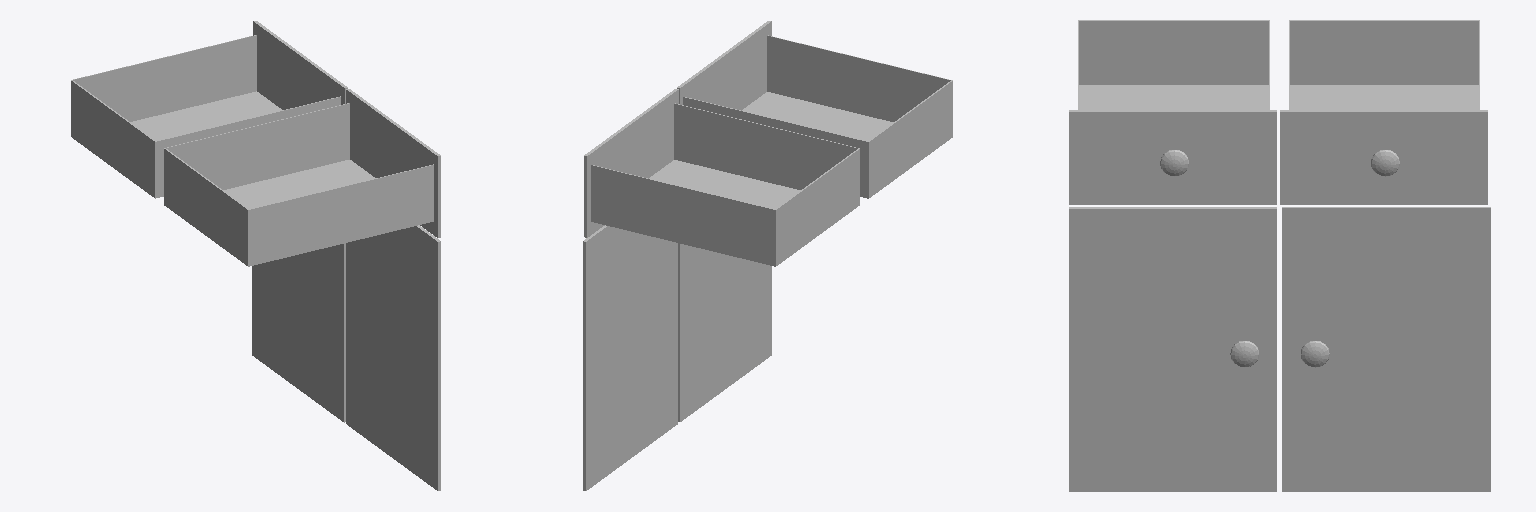
URDF robot description (my_urdf):
<?xml version='1.0' encoding='utf-8'?>
<robot name="my_urdf"><link name="base_link"><visual><origin xyz="0 0 0" rpy="0.0 0.0 0.0" /><material name="white"><color rgba="0.8 0.8 0.8 1" /></material><geometry><mesh filename="../meshes/cabinet.obj" scale="1 1 1" /></geometry></visual><collision><origin xyz="0 0 0" rpy="0.0 0.0 0.0" /><geometry><mesh filename="../meshes/cabinet.obj" scale="1 1 1" /></geometry></collision><inertial><mass value="1" /><inertia ixx="1e-4" ixy="0" ixz="0" iyy="1e-4" iyz="0" izz="1e-4" /></inertial></link><link name="drawer0"><visual><origin xyz="0 0 0" rpy="0 0 0" /><material name="white"><color rgba="0.8 0.8 0.8 1" /></material><geometry><mesh filename="../meshes/parts/drawer.obj" scale="1 1.98 0.98" /></geometry></visual><collision><origin xyz="0 0 0" rpy="0 0 0" /><geometry><mesh filename="../meshes/parts/drawer.obj" scale="1 1.98 0.98" /></geometry></collision><inertial><mass value="0.2" /><inertia ixx="1e-4" ixy="0" ixz="0" iyy="1e-4" iyz="0" izz="1e-4" /></inertial></link><joint name="drawer0_to_base_link" type="prismatic"><axis xyz="1 0 0" /><limit effort="5" lower="0" upper="0.4" velocity="2.283" /><origin xyz="0 0.0 0.75" rpy="0.0 0.0 0.0" /><parent link="base_link" /><child link="drawer0" /></joint><link name="drawer1"><visual><origin xyz="0 0 0" rpy="0 0 0" /><material name="white"><color rgba="0.8 0.8 0.8 1" /></material><geometry><mesh filename="../meshes/parts/drawer.obj" scale="1 1.98 0.98" /></geometry></visual><collision><origin xyz="0 0 0" rpy="0 0 0" /><geometry><mesh filename="../meshes/parts/drawer.obj" scale="1 1.98 0.98" /></geometry></collision><inertial><mass value="0.2" /><inertia ixx="1e-4" ixy="0" ixz="0" iyy="1e-4" iyz="0" izz="1e-4" /></inertial></link><joint name="drawer1_to_base_link" type="prismatic"><axis xyz="1 0 0" /><limit effort="5" lower="0" upper="0.4" velocity="2.283" /><origin xyz="0 0.5 0.75" rpy="0.0 0.0 0.0" /><parent link="base_link" /><child link="drawer1" /></joint><link name="doorR2"><visual><origin xyz="0 0 0" rpy="0 0 0" /><material name="white"><color rgba="0.8 0.8 0.8 1" /></material><geometry><mesh filename="../meshes/parts/doorR.obj" scale="1 1.99 2.99" /></geometry></visual><collision><origin xyz="0 0 0" rpy="0 0 0" /><geometry><mesh filename="../meshes/parts/doorR.obj" scale="1 1.99 2.99" /></geometry></collision><inertial><mass value="0.2" /><inertia ixx="1e-4" ixy="0" ixz="0" iyy="1e-4" iyz="0" izz="1e-4" /></inertial></link><joint name="doorR2_to_base_link" type="revolute"><axis xyz="0 0 1" /><limit effort="5" lower="0" upper="1.57" velocity="2.283" /><origin xyz="0 1.0 0.0" rpy="-0.0 -0.0 -0.0" /><parent link="base_link" /><child link="doorR2" /></joint><link name="doorL3"><visual><origin xyz="0 0 0" rpy="0 0 0" /><material name="white"><color rgba="0.8 0.8 0.8 1" /></material><geometry><mesh filename="../meshes/parts/doorL.obj" scale="1 1.99 2.99" /></geometry></visual><collision><origin xyz="0 0 0" rpy="0 0 0" /><geometry><mesh filename="../meshes/parts/doorL.obj" scale="1 1.99 2.99" /></geometry></collision><inertial><mass value="0.2" /><inertia ixx="1e-4" ixy="0" ixz="0" iyy="1e-4" iyz="0" izz="1e-4" /></inertial></link><joint name="doorL3_to_base_link" type="revolute"><axis xyz="0 0 1" /><limit effort="5" lower="-1.57" upper="0" velocity="2.283" /><origin xyz="0 0.0 0.0" rpy="0.0 0.0 0.0" /><parent link="base_link" /><child link="doorL3" /></joint><link name="knob4"><visual><origin xyz="0 0 0" rpy="0 0 0" /><material name="white"><color rgba="0.8 0.8 0.8 1" /></material><geometry><mesh filename="../meshes/parts/knob.obj" scale="1 1 1" /></geometry></visual><collision><origin xyz="0 0 0" rpy="0 0 0" /><geometry><mesh filename="../meshes/parts/knob.obj" scale="1 1 1" /></geometry></collision><inertial><mass value="0.2" /><inertia ixx="1e-4" ixy="0" ixz="0" iyy="1e-4" iyz="0" izz="1e-4" /></inertial></link><joint name="knob4_to_drawer0" type="fixed"><axis xyz="0 0 1" /><limit effort="5" lower="-1.57" upper="0" velocity="2.283" /><origin xyz="0 0.25 0.125" rpy="1.5707963267948963 0.0 0.0" /><parent link="drawer0" /><child link="knob4" /></joint><link name="knob5"><visual><origin xyz="0 0 0" rpy="0 0 0" /><material name="white"><color rgba="0.8 0.8 0.8 1" /></material><geometry><mesh filename="../meshes/parts/knob.obj" scale="1 1 1" /></geometry></visual><collision><origin xyz="0 0 0" rpy="0 0 0" /><geometry><mesh filename="../meshes/parts/knob.obj" scale="1 1 1" /></geometry></collision><inertial><mass value="0.2" /><inertia ixx="1e-4" ixy="0" ixz="0" iyy="1e-4" iyz="0" izz="1e-4" /></inertial></link><joint name="knob5_to_drawer1" type="fixed"><axis xyz="0 0 1" /><limit effort="5" lower="-1.57" upper="0" velocity="2.283" /><origin xyz="0 0.25 0.125" rpy="1.5707963267948963 0.0 0.0" /><parent link="drawer1" /><child link="knob5" /></joint><link name="knob6"><visual><origin xyz="0 0 0" rpy="0 0 0" /><material name="white"><color rgba="0.8 0.8 0.8 1" /></material><geometry><mesh filename="../meshes/parts/knob.obj" scale="1 1 1" /></geometry></visual><collision><origin xyz="0 0 0" rpy="0 0 0" /><geometry><mesh filename="../meshes/parts/knob.obj" scale="1 1 1" /></geometry></collision><inertial><mass value="0.2" /><inertia ixx="1e-4" ixy="0" ixz="0" iyy="1e-4" iyz="0" izz="1e-4" /></inertial></link><joint name="knob6_to_doorR2" type="fixed"><axis xyz="1 0 0" /><limit effort="5" lower="-1.57" upper="0" velocity="2.283" /><origin xyz="0 -0.4166666666666667 0.375" rpy="0.0 0.0 0.0" /><parent link="doorR2" /><child link="knob6" /></joint><link name="knob7"><visual><origin xyz="0 0 0" rpy="0 0 0" /><material name="white"><color rgba="0.8 0.8 0.8 1" /></material><geometry><mesh filename="../meshes/parts/knob.obj" scale="1 1 1" /></geometry></visual><collision><origin xyz="0 0 0" rpy="0 0 0" /><geometry><mesh filename="../meshes/parts/knob.obj" scale="1 1 1" /></geometry></collision><inertial><mass value="0.2" /><inertia ixx="1e-4" ixy="0" ixz="0" iyy="1e-4" iyz="0" izz="1e-4" /></inertial></link><joint name="knob7_to_doorL3" type="fixed"><axis xyz="1 0 0" /><limit effort="5" lower="-1.57" upper="0" velocity="2.283" /><origin xyz="0 0.4166666666666667 0.375" rpy="0.0 0.0 0.0" /><parent link="doorL3" /><child link="knob7" /></joint></robot>

--- Render facts (derived) ---
3 views of the same robot in one strip: view 1: azimuth 30°, elevation 25°; view 2: azimuth 150°, elevation 25°; view 3: azimuth 270°, elevation 25° (orthographic).
Model my_urdf with 9 links and 8 joints (2 revolute, 2 prismatic, 4 fixed), rooted at base_link, posed every joint at zero.
Links seen in each view (by area): view 1: drawer0, drawer1, doorL3, doorR2; view 2: drawer1, drawer0, doorR2, doorL3; view 3: doorR2, doorL3, drawer0, drawer1, knob4, knob5, knob6, knob7.
Boxes of the visible links, x1,y1,x2,y2 form: drawer0: (164,89,440,266); drawer1: (71,21,347,198); doorL3: (346,225,440,490); doorR2: (252,243,345,422); drawer1: (584,89,859,266); drawer0: (677,21,952,198); doorR2: (583,225,677,490); doorL3: (678,243,771,421); doorR2: (1282,207,1490,491); doorL3: (1069,207,1276,491); drawer0: (1069,20,1276,204); drawer1: (1280,20,1487,204); knob4: (1160,150,1188,176); knob5: (1371,150,1399,176); knob6: (1301,341,1329,367); knob7: (1230,341,1258,367).
Bounding box of the posed robot: 0.6304 × 1 × 0.9929 m (x, y, z).
8 mesh visuals loaded from 5 distinct referenced files (4 OBJ); not drawn: 1 (reference not matched to a file when rendering).